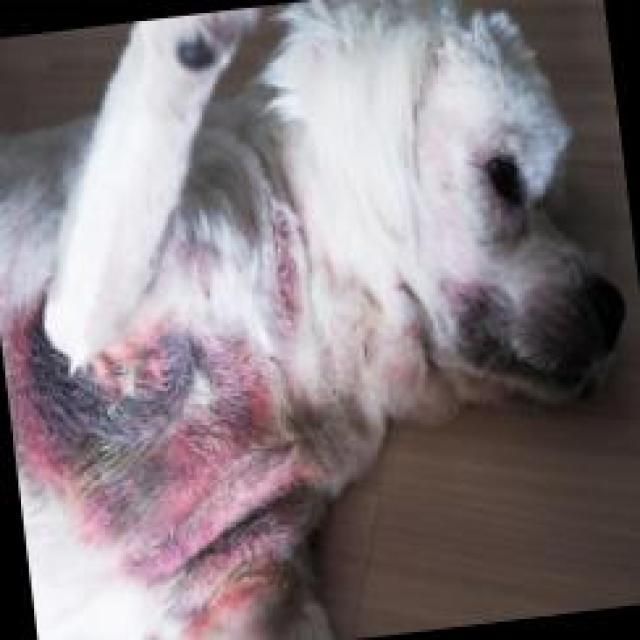allergic dermatitis: (72, 338, 275, 529), (129, 448, 292, 640), (9, 297, 91, 485), (262, 207, 306, 339)
